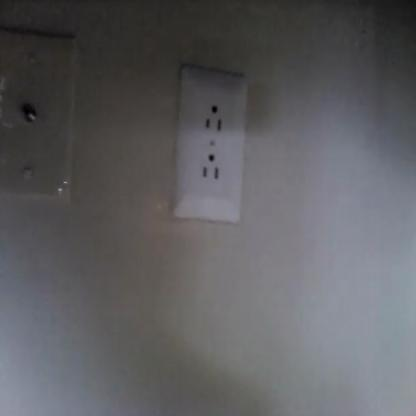OUTLET: (173, 75, 248, 222)
